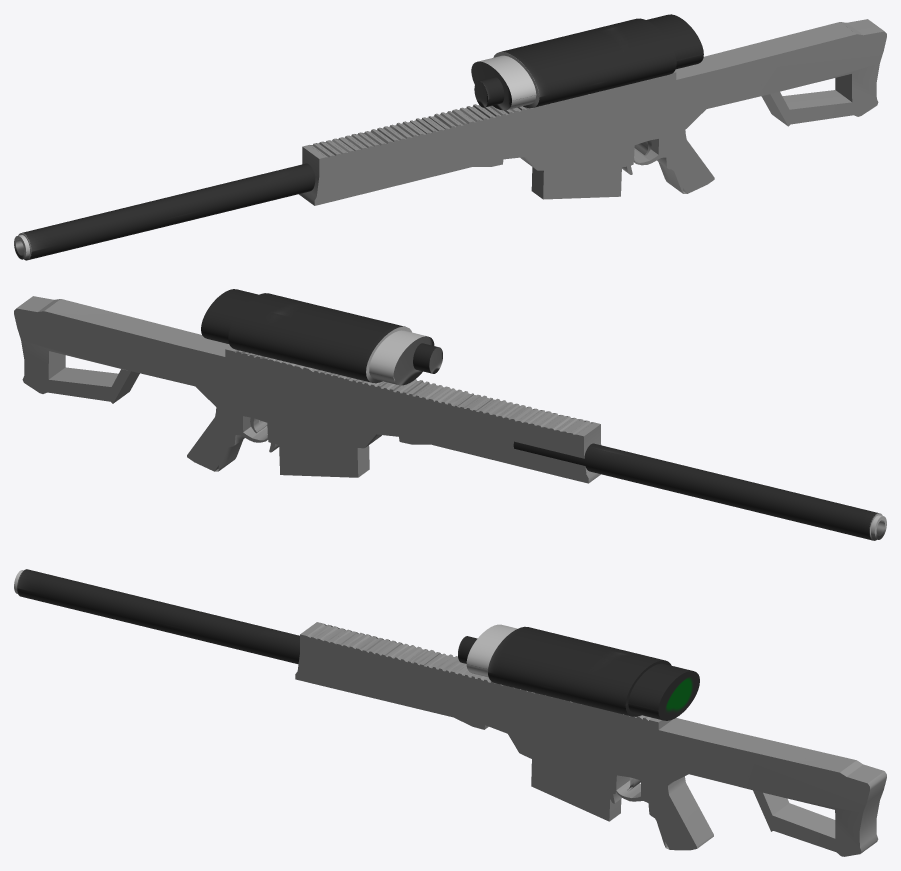
The model's file is weapon2.fbx.
3 views of the same model, one above another, from view 1: azimuth 30°, elevation 25°; view 2: azimuth 150°, elevation 25°; view 3: azimuth 330°, elevation 25° (orthographic).
Visible parts, largest first — view 1: Sniper; view 2: Sniper; view 3: Sniper.
Boxes of the visible parts, x1=… form: Sniper: x1=14, y1=14, x2=886, y2=260; Sniper: x1=14, y1=289, x2=886, y2=540; Sniper: x1=14, y1=569, x2=886, y2=856.
Bounding box in the file's own units: 167 × 1755 × 336.
